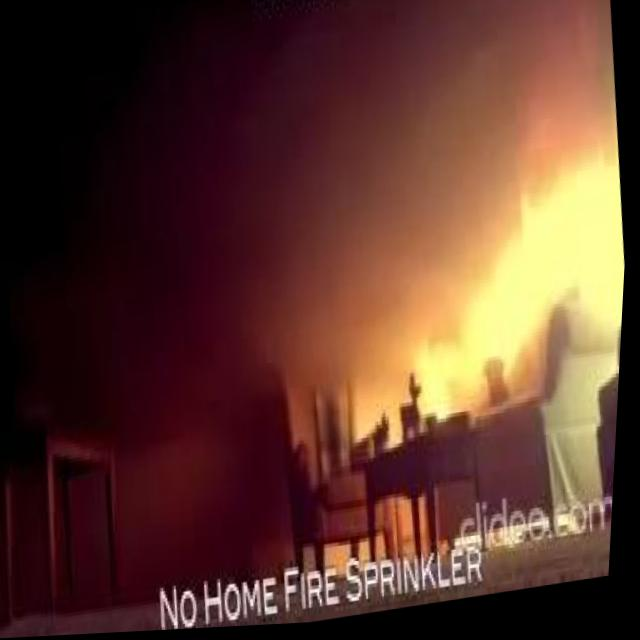fire: (402, 160, 632, 409)
